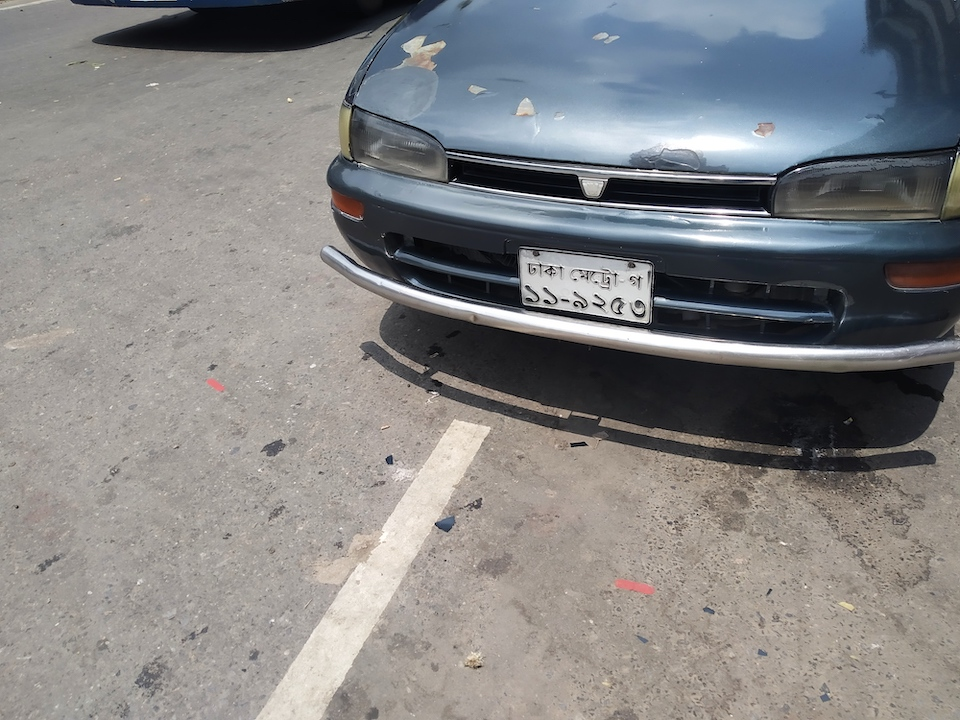registration_plate: (517, 245, 655, 326)
